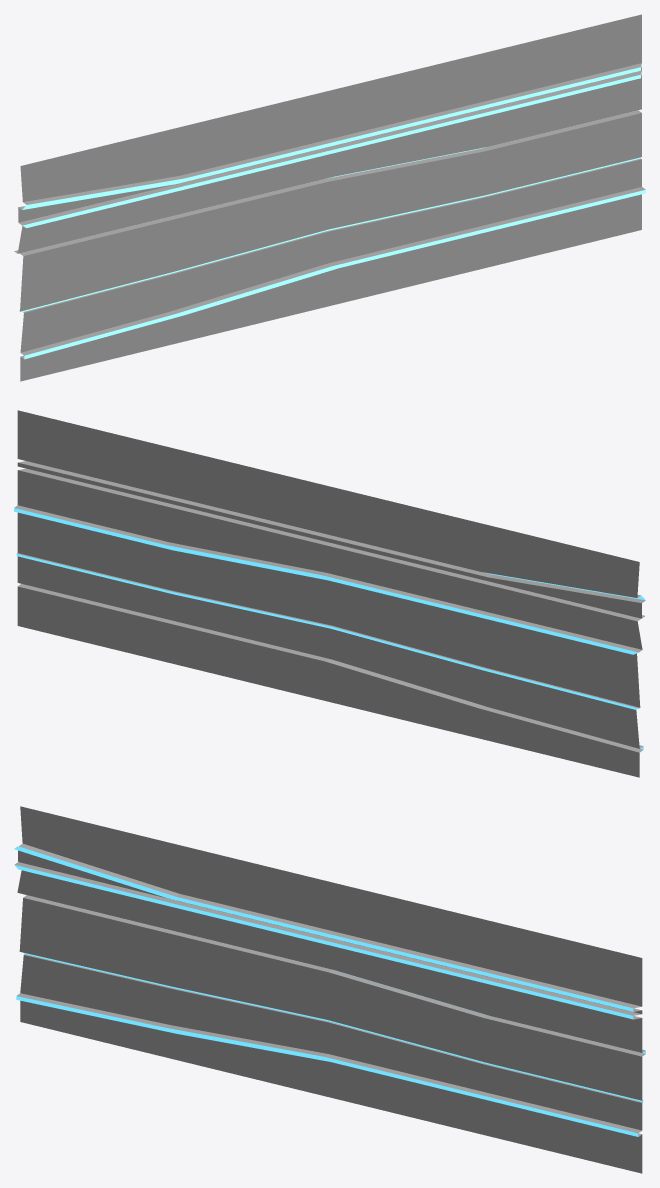
The model's file is Fence_Small_Blue.glb.
3 views of the same model, one above another, from view 1: azimuth 30°, elevation 25°; view 2: azimuth 150°, elevation 25°; view 3: azimuth 330°, elevation 25° (orthographic).
Parts seen in each view (by area): view 1: factory_fence_03_geo, factory_fence_03_geo.001; view 2: factory_fence_03_geo, factory_fence_03_geo.001; view 3: factory_fence_03_geo, factory_fence_03_geo.001.
Boxes of the visible parts, x1,y1,x2,y2 form: factory_fence_03_geo: (14, 14, 645, 381); factory_fence_03_geo.001: (21, 67, 645, 359); factory_fence_03_geo: (14, 410, 645, 777); factory_fence_03_geo.001: (14, 508, 645, 749); factory_fence_03_geo: (14, 806, 645, 1173); factory_fence_03_geo.001: (14, 846, 645, 1136).
Size of what is drawn, in the model's own units: 12.19 by 4.02 by 0.2551.
Materials: 2 (1 with a texture image).
